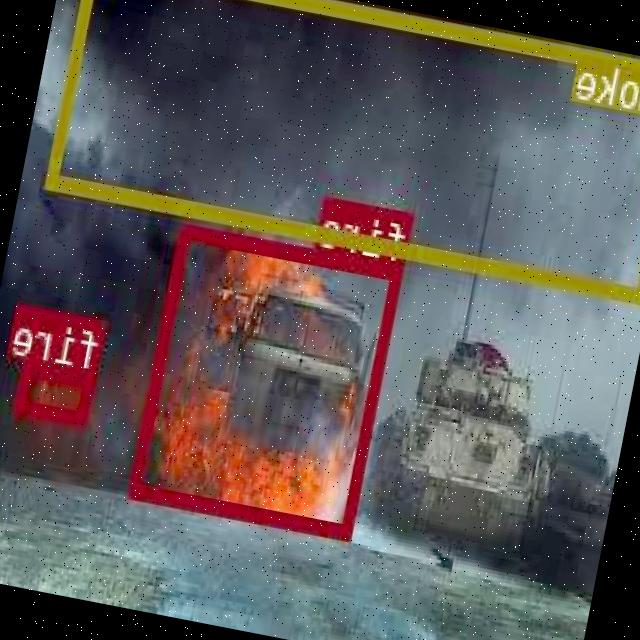fire: (130, 223, 407, 540), (17, 360, 98, 427)
smoke: (49, 0, 640, 300)
